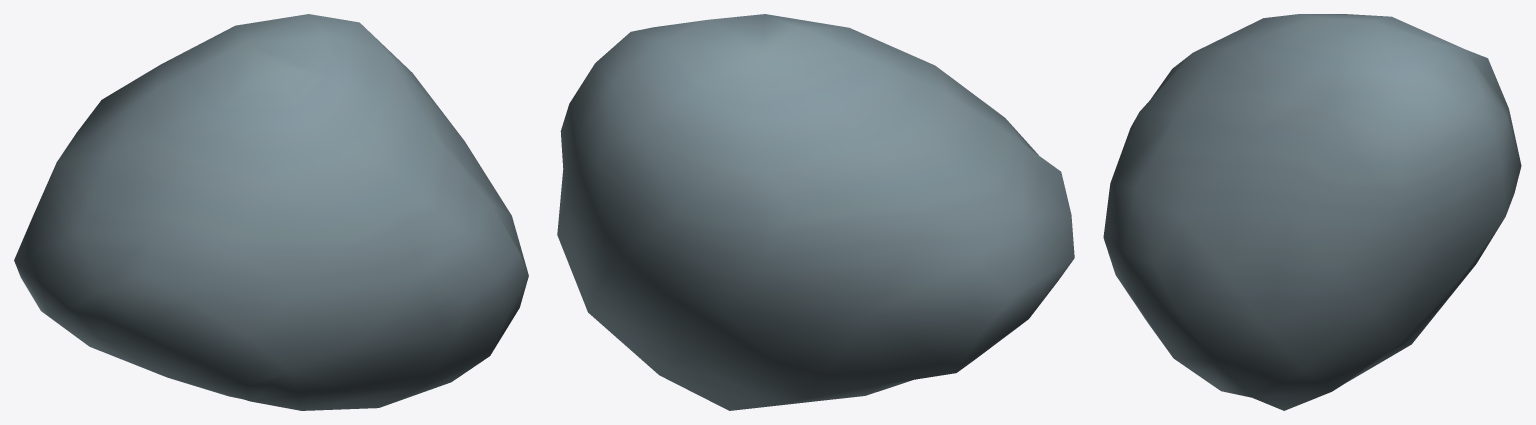
File: Rock-Smooth-1.fbx
The picture shows the model from 3 angles, left to right: view 1: azimuth 30°, elevation 25°; view 2: azimuth 150°, elevation 25°; view 3: azimuth 270°, elevation 25°; orthographic projection. The views are drawn at different scales.
Parts seen in each view (by area): view 1: Rock-Smooth-1; view 2: Rock-Smooth-1; view 3: Rock-Smooth-1.
Boxes of the visible parts, bbox=[...] form: Rock-Smooth-1: bbox=[14, 14, 528, 410]; Rock-Smooth-1: bbox=[557, 14, 1074, 410]; Rock-Smooth-1: bbox=[1103, 14, 1521, 410].
Size of the model in its own units: 153 by 111 by 128.
